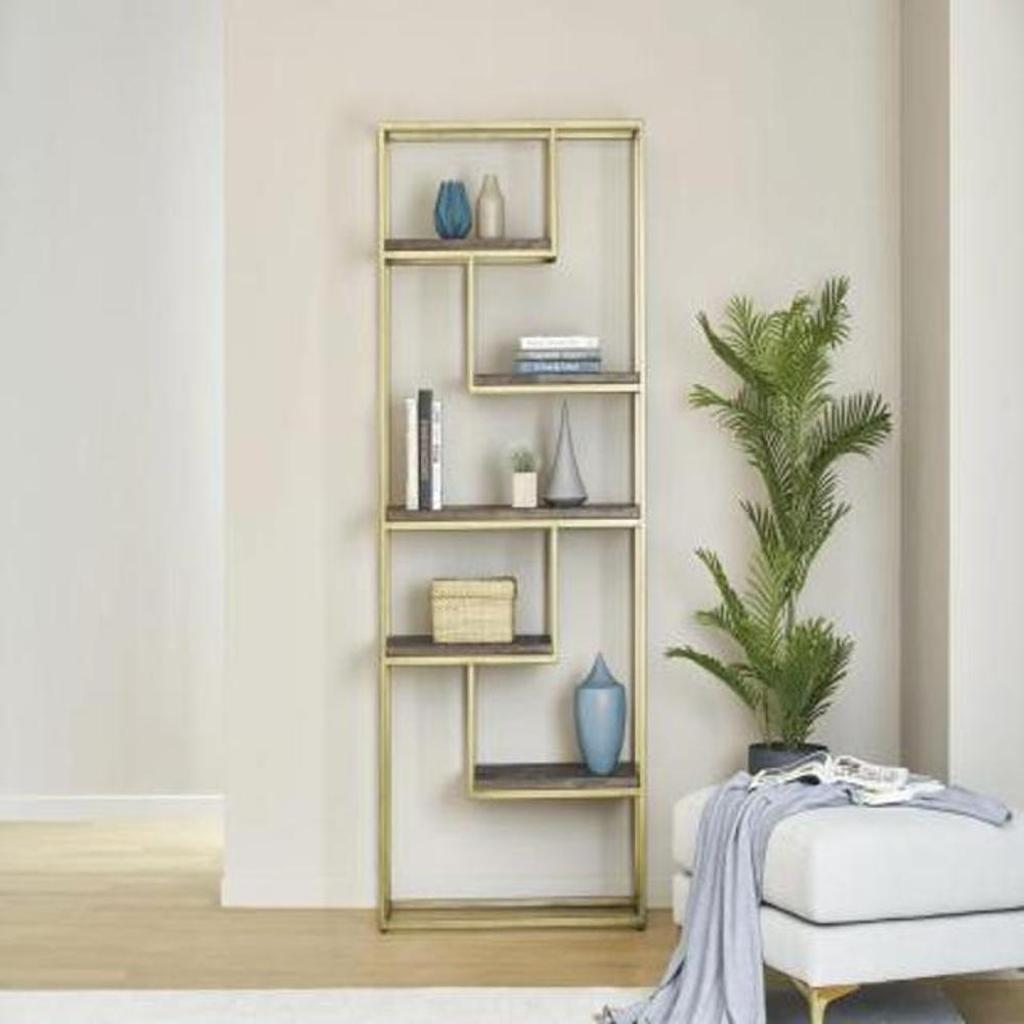lamp: (374, 116, 650, 940)
